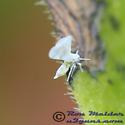whitefly: (47, 35, 90, 84)
